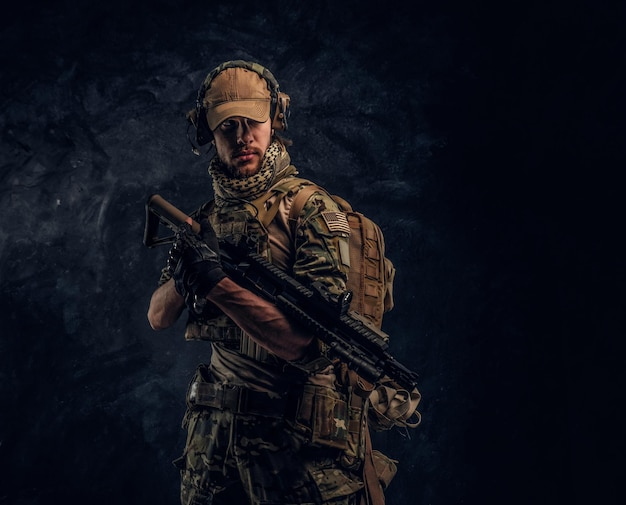gun: (140, 193, 421, 391)
